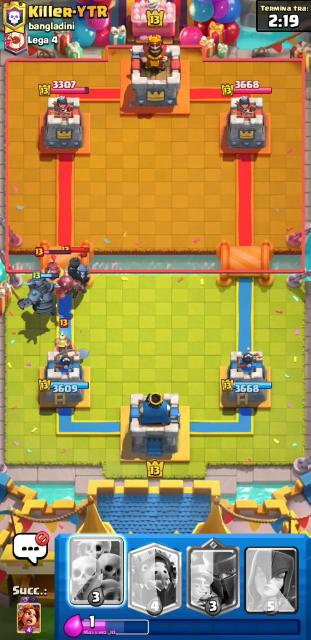ally_melee: (16, 269, 60, 315)
enemy_melee: (35, 248, 72, 300), (60, 247, 91, 300), (54, 318, 73, 352)
